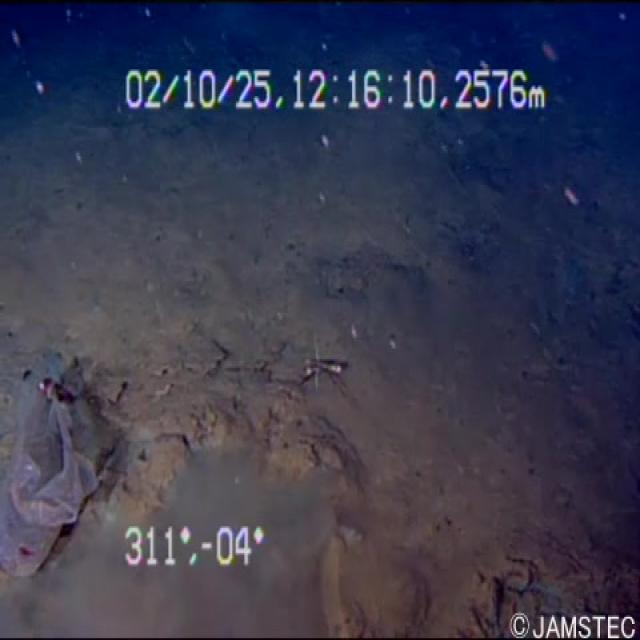plastic: (0, 335, 113, 572)
